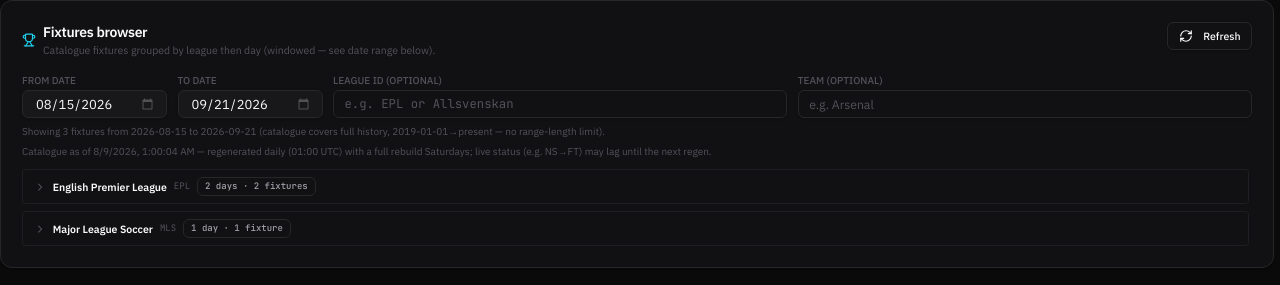
FixturesBrowser › shows the full-history catalogue coverage note even for a multi-year range (no server-side span cap)
Expected: the text with test id "fixtures-browser-window-note" is shown, [22,124,605,138]
Type "2020-01-01" into the date field labelled "From date". click: (94, 104)
box: [22,90,167,118]
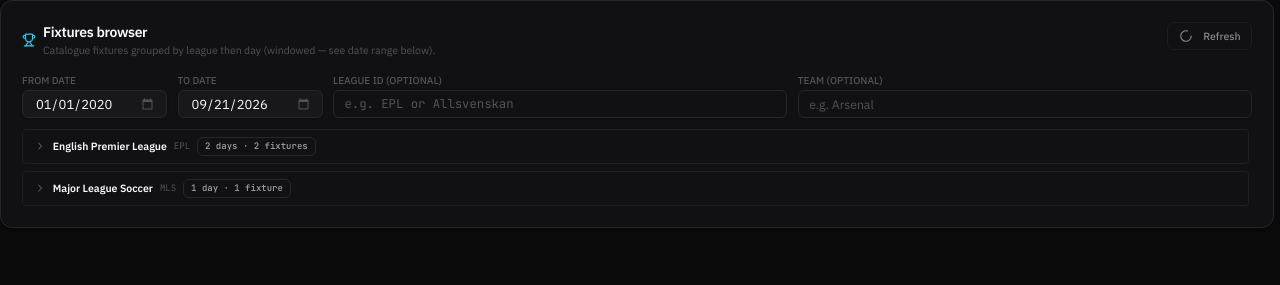
Type "2026-01-01" into the date field labelled "To date". click: (250, 104)
box: [178,90,322,118]
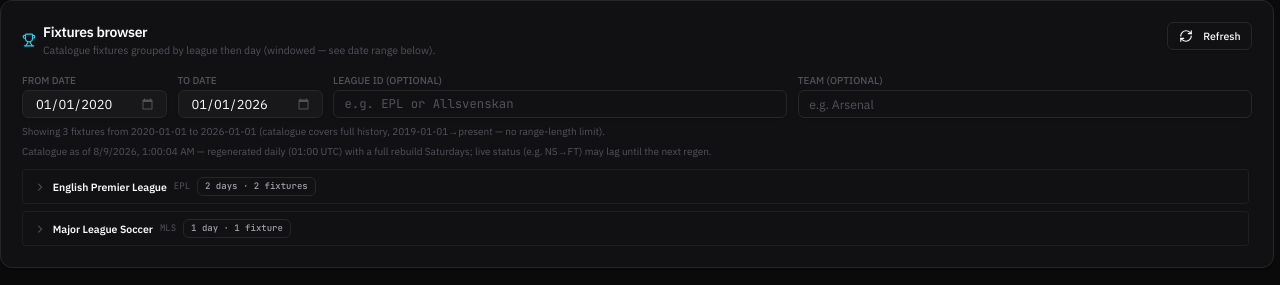
Expected: the text with test id "fixtures-browser-window-note" shows "covers full history, 2019-01-01→present", [256,124,605,138]
